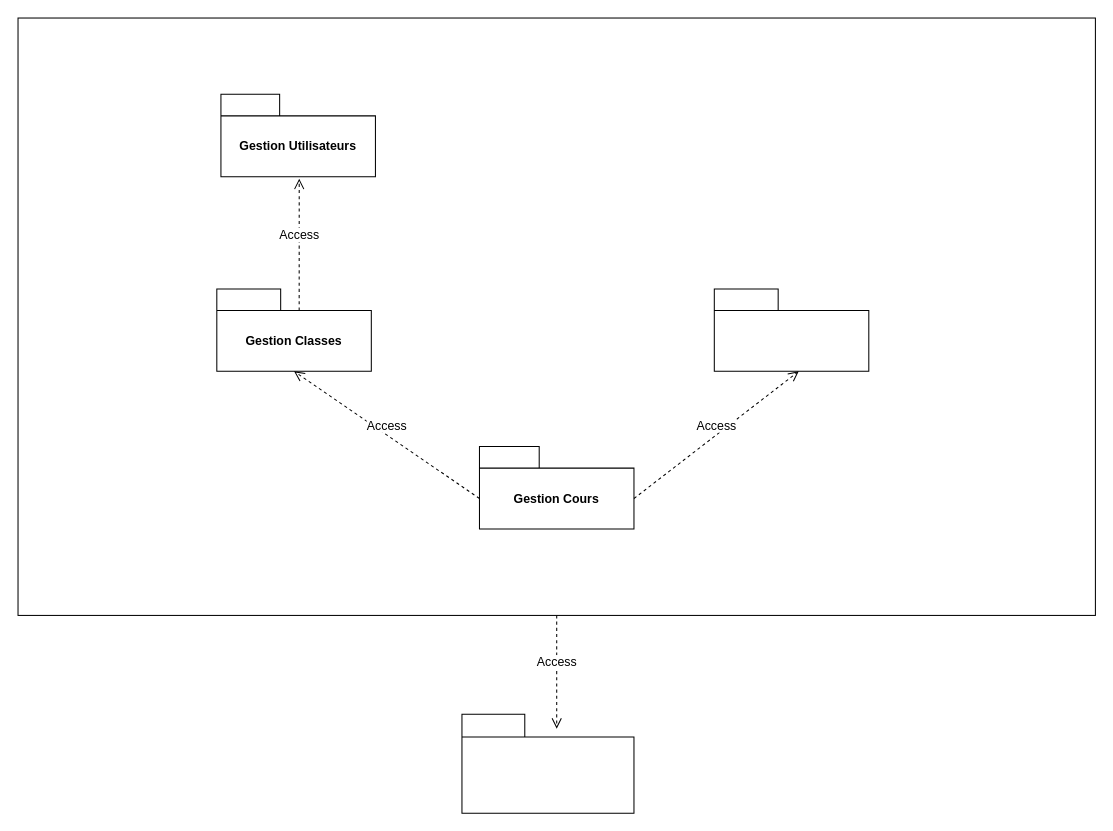
This 1113x831 diagram has some shape labels left out. The shapes that lost their labels are listed below. From the top down, each one's centre as x and y in pixels, then its label:
pixel 791 329: Gestion Matières
pixel 547 763: Authentification
